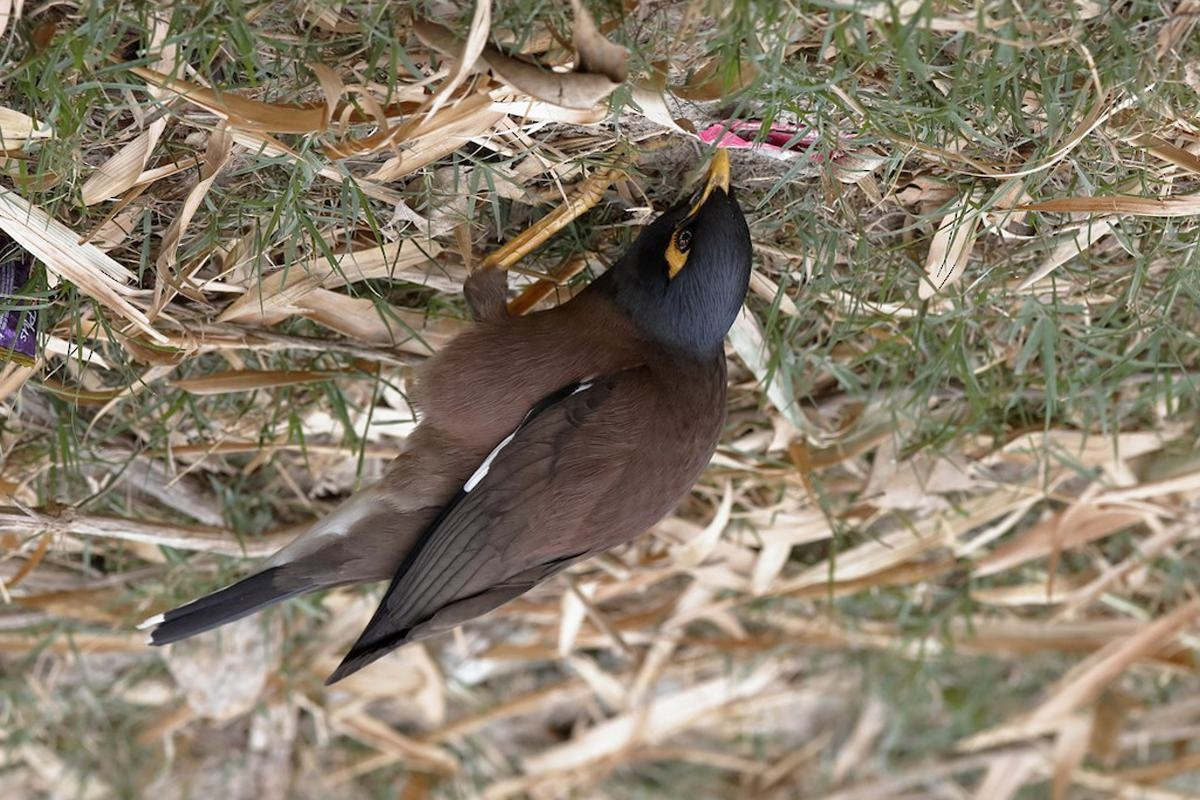myna: (244, 107, 766, 684)
